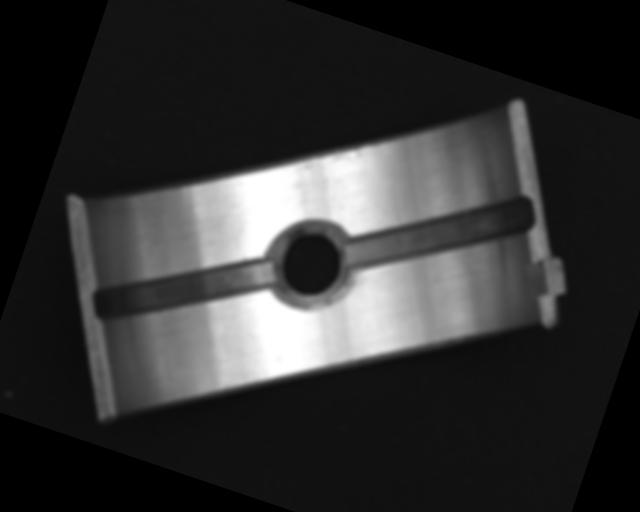gap: (342, 144, 541, 317), (89, 212, 280, 368)
hole: (263, 216, 355, 320)
